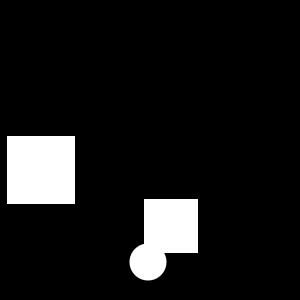circle: (7, 136, 75, 204), (144, 199, 198, 253)
rectangle: (130, 244, 167, 280)
